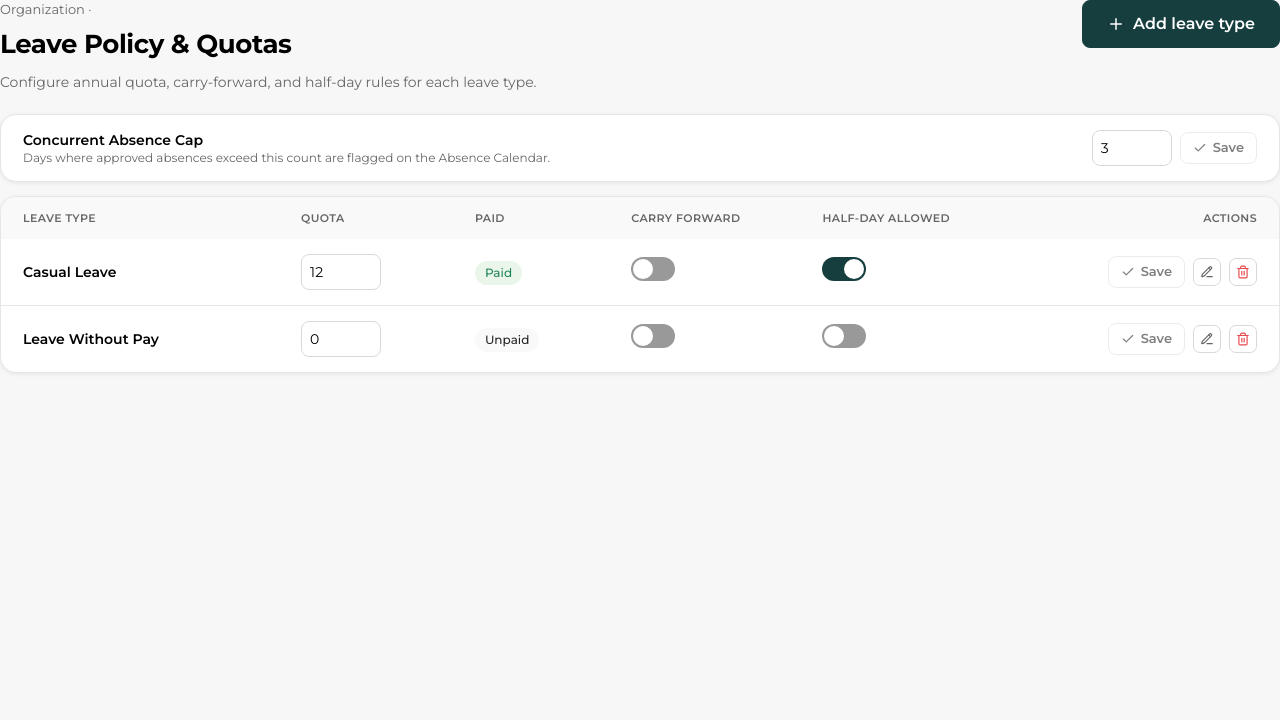
Test: pencil opens the edit dialog prefilled and saves name/isPaid changes
Expected: the text "Casual Leave" is shown, [23, 263, 116, 281]
Click the button named "Edit Casual Leave": (1207,272) [1193, 258, 1221, 286]
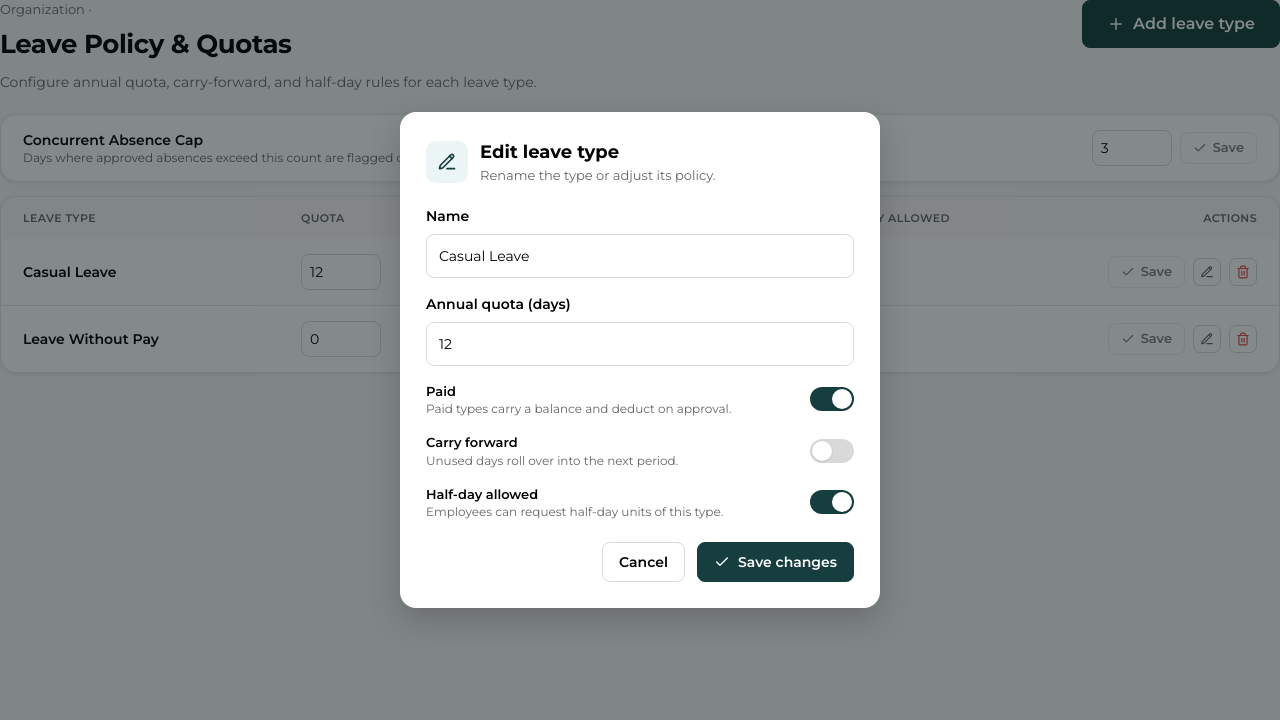
Expected: the text "Casual Leave" is shown, [23, 263, 116, 281]
Expected: the text "Edit leave type" is shown, [480, 141, 619, 163]
Replace the text in the field labelled "Name" with "Casual": (640,256) [439, 246, 841, 266]
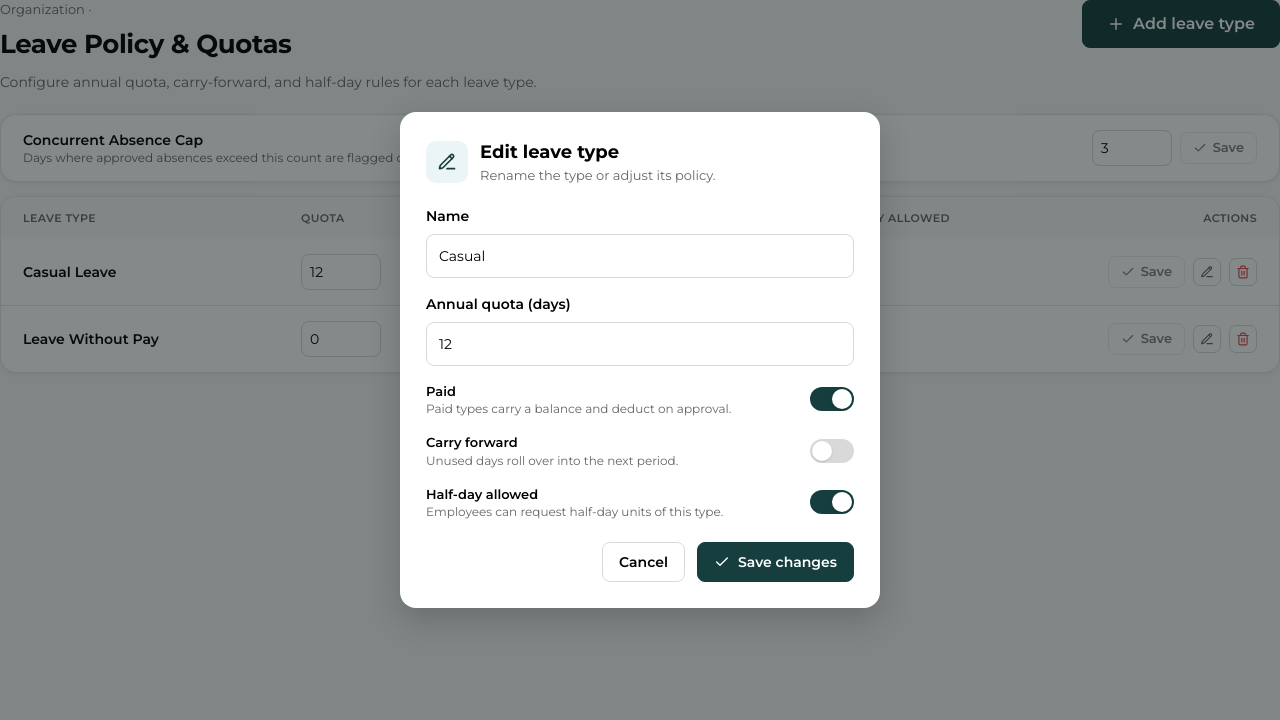
# First switch in the dialog is the Paid toggle — flip paid → unpaid.
Click the switch named "Paid": (832,399) [810, 387, 854, 411]
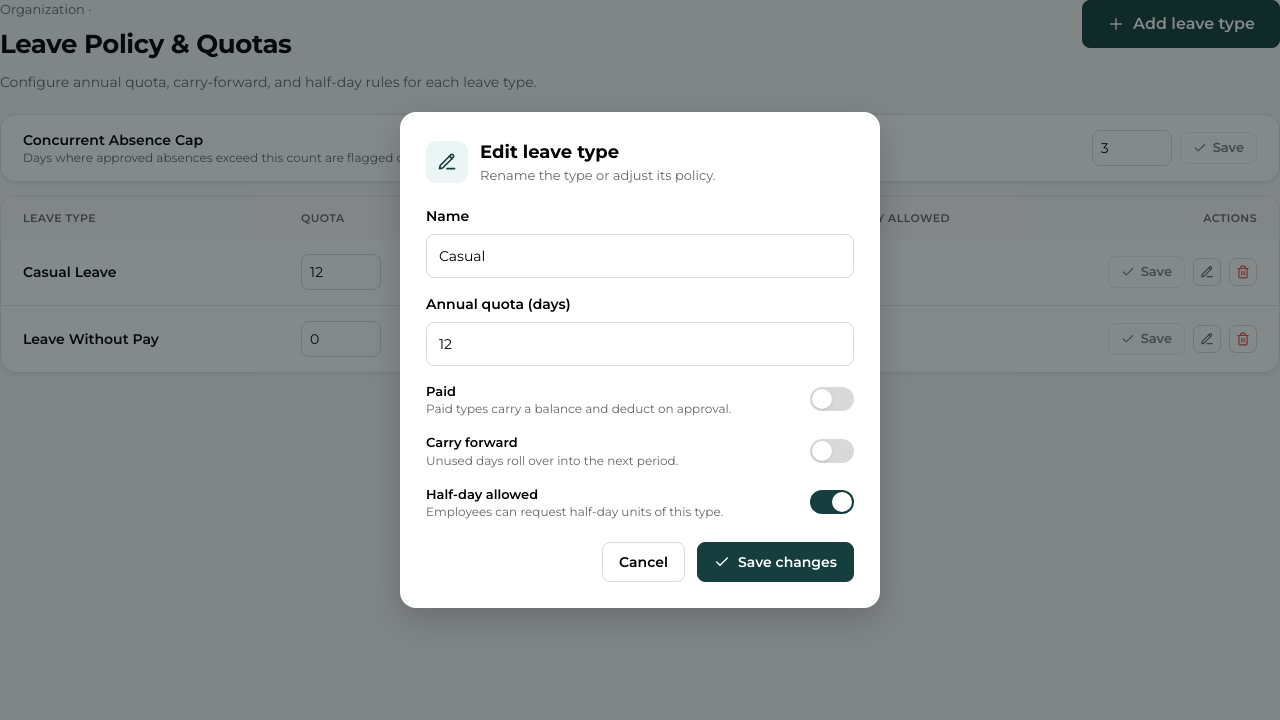
Click the button "Save changes": (776,562) [697, 542, 854, 582]
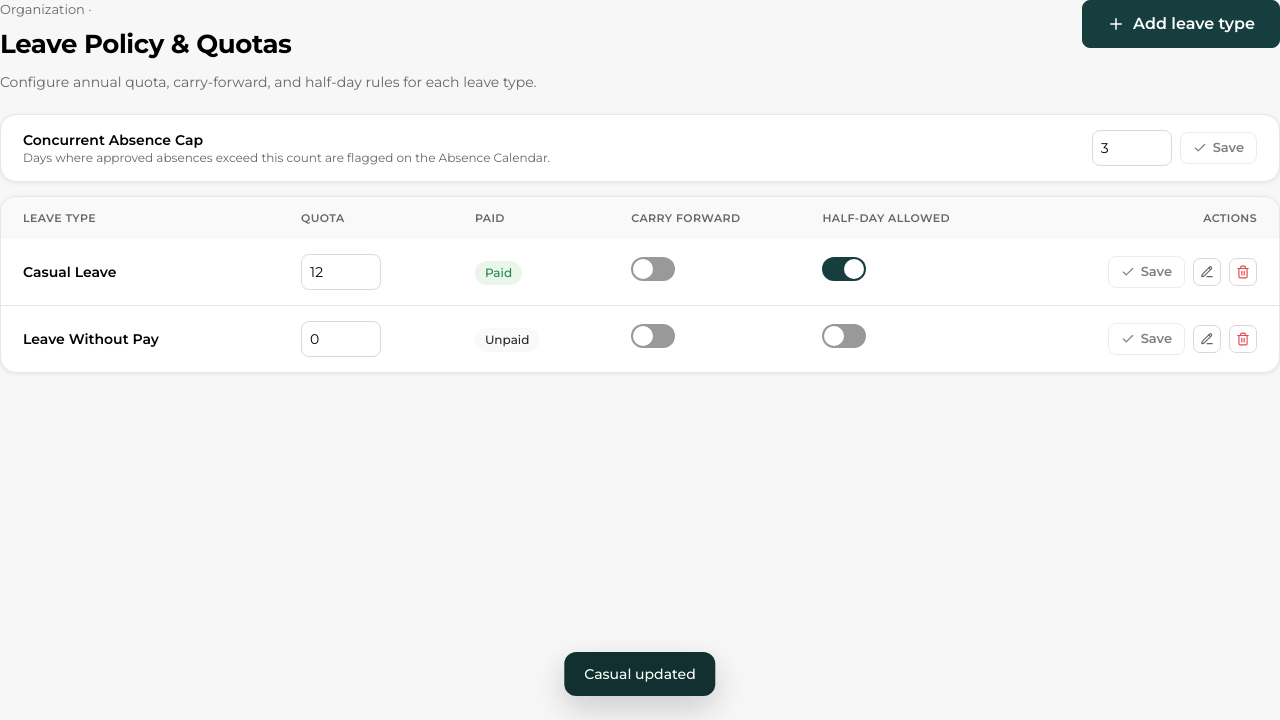
Expected: the text "Casual updated" is shown, [564, 652, 716, 696]
